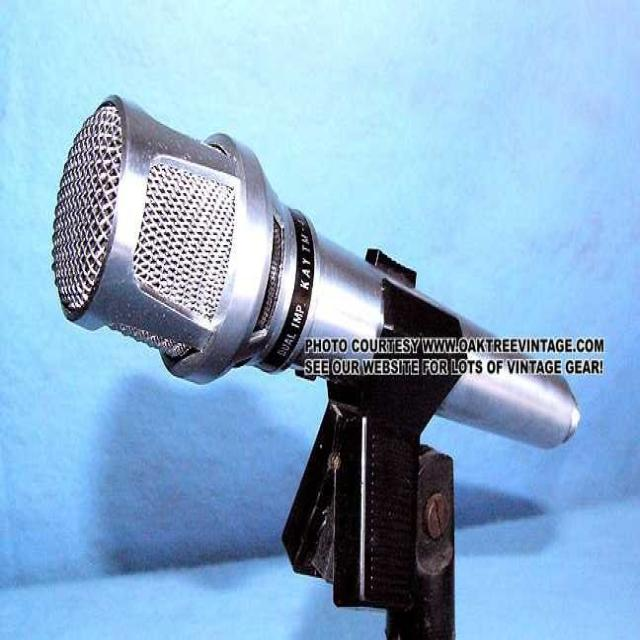microphone: (61, 98, 570, 444)
